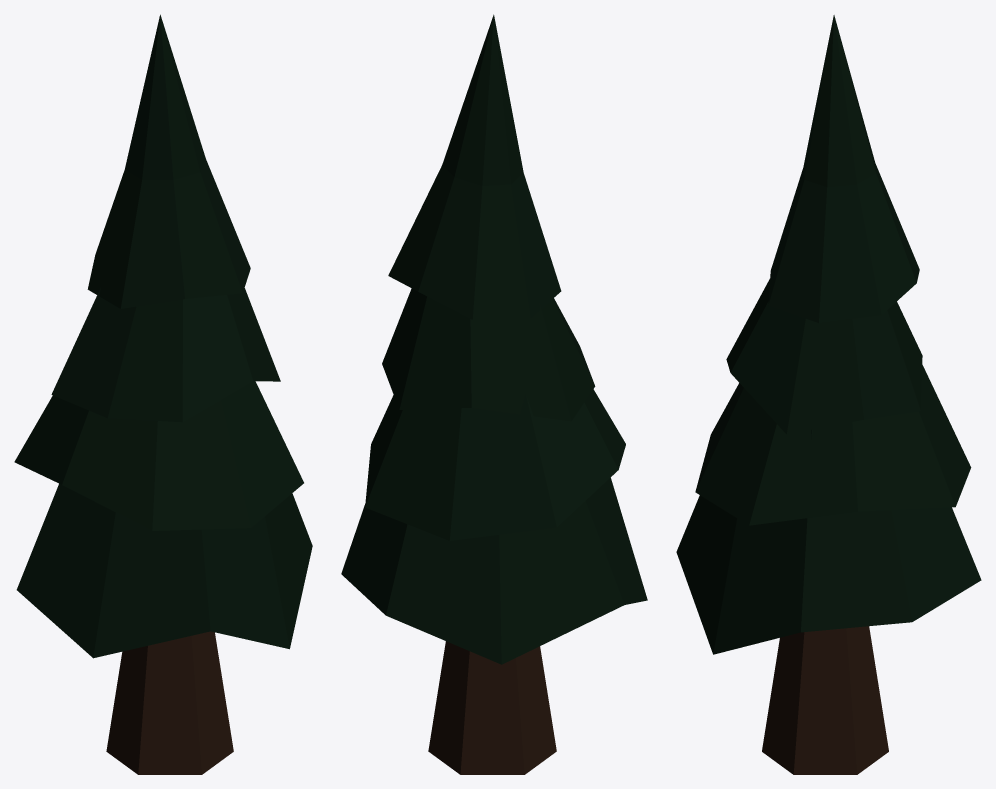
File: pinetree1.obj
3 views of the same model, side by side, from view 1: azimuth 30°, elevation 25°; view 2: azimuth 150°, elevation 25°; view 3: azimuth 270°, elevation 25° (orthographic).
Visible parts, largest first — view 1: tree_1_Cone.009; view 2: tree_1_Cone.009; view 3: tree_1_Cone.009.
Boxes of the visible parts, box(x1,y1,x2,y2) form: tree_1_Cone.009: box(14, 14, 312, 774); tree_1_Cone.009: box(341, 14, 647, 774); tree_1_Cone.009: box(676, 15, 981, 774).
Size of the model in its own units: 3.23 by 8.33 by 3.13.
